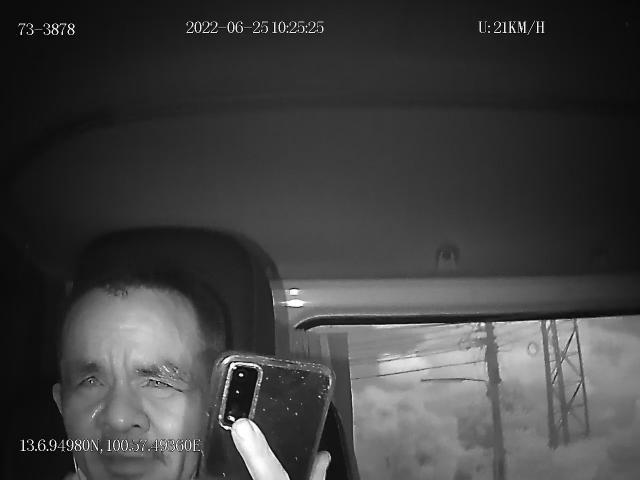PhoneUse: (202, 352, 336, 480)
SafeDriving: (135, 364, 186, 399), (68, 361, 110, 398)
